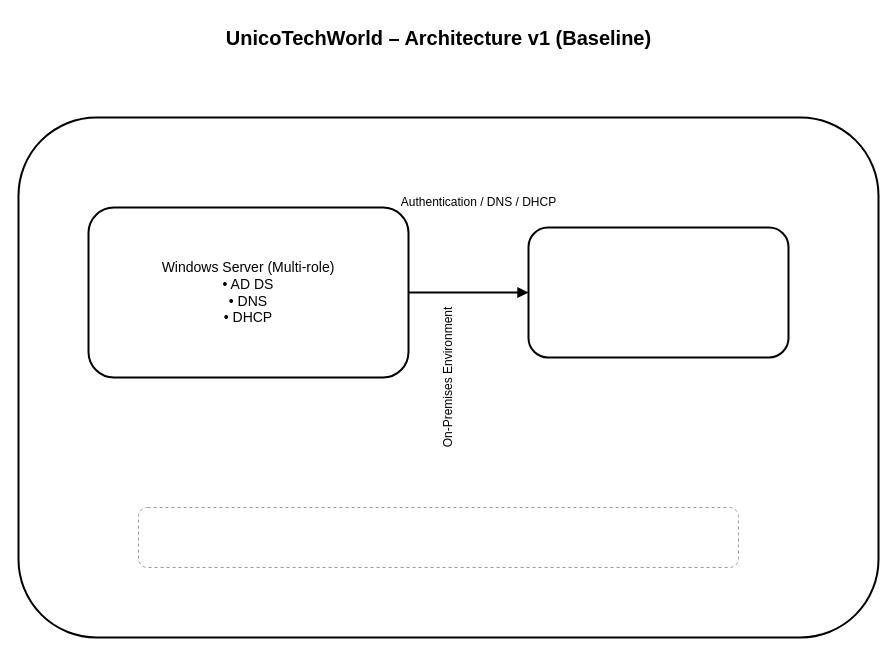
This 896x655 diagram has some shape labels left out. The shapes that lost their labels are listed below. From the top down, each one's centre as x and y in pixels, then its label:
At [658,292]: "Windows 11 Client (Domain-joined)".
At [438,537]: "Scope: baseline only (no cloud / no CA / no Intune yet)".
